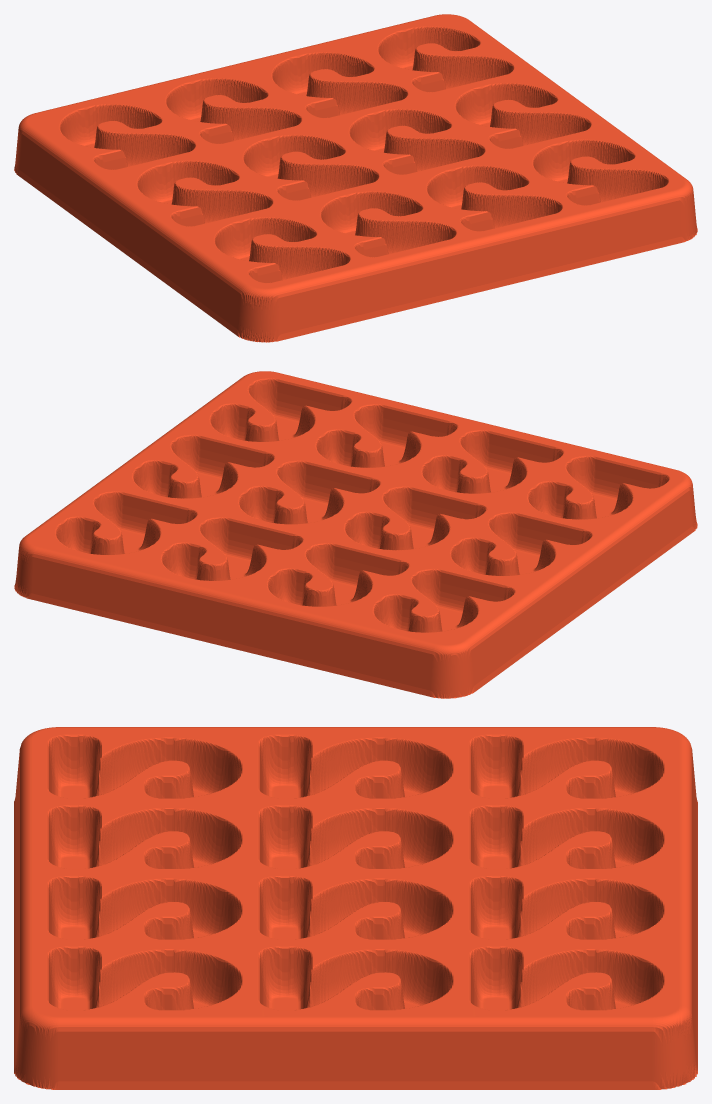
File: mold.glb
The picture shows the model from 3 angles, top to bottom: view 1: azimuth 30°, elevation 25°; view 2: azimuth 150°, elevation 25°; view 3: azimuth 270°, elevation 25°; orthographic projection. The views are drawn at different scales.
Visible parts, largest first — view 1: geometry_0; view 2: geometry_0; view 3: geometry_0.
Boxes of the visible parts, left/top/right/bottom form: geometry_0: left=14, top=14, right=697, bottom=342; geometry_0: left=14, top=371, right=697, bottom=698; geometry_0: left=14, top=727, right=697, bottom=1089.
Size of the model in its own units: 0.1444 by 0.0145 by 0.1374.
